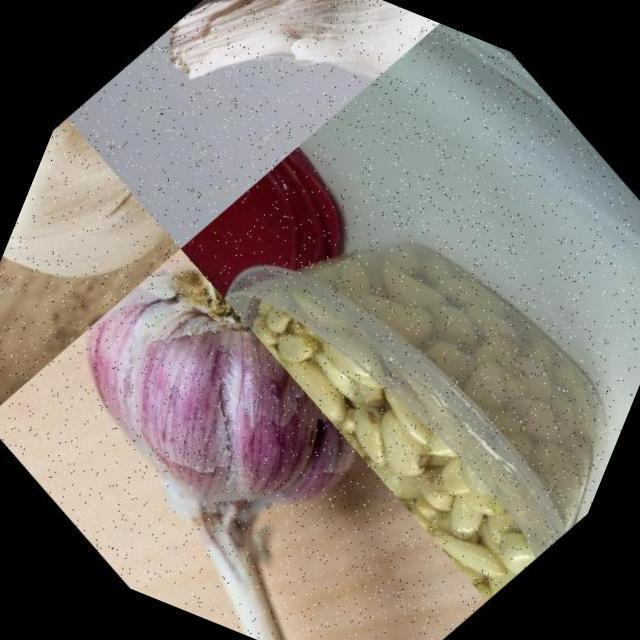garlic: (174, 142, 640, 622), (0, 218, 412, 608), (125, 0, 453, 215), (0, 115, 200, 456)
